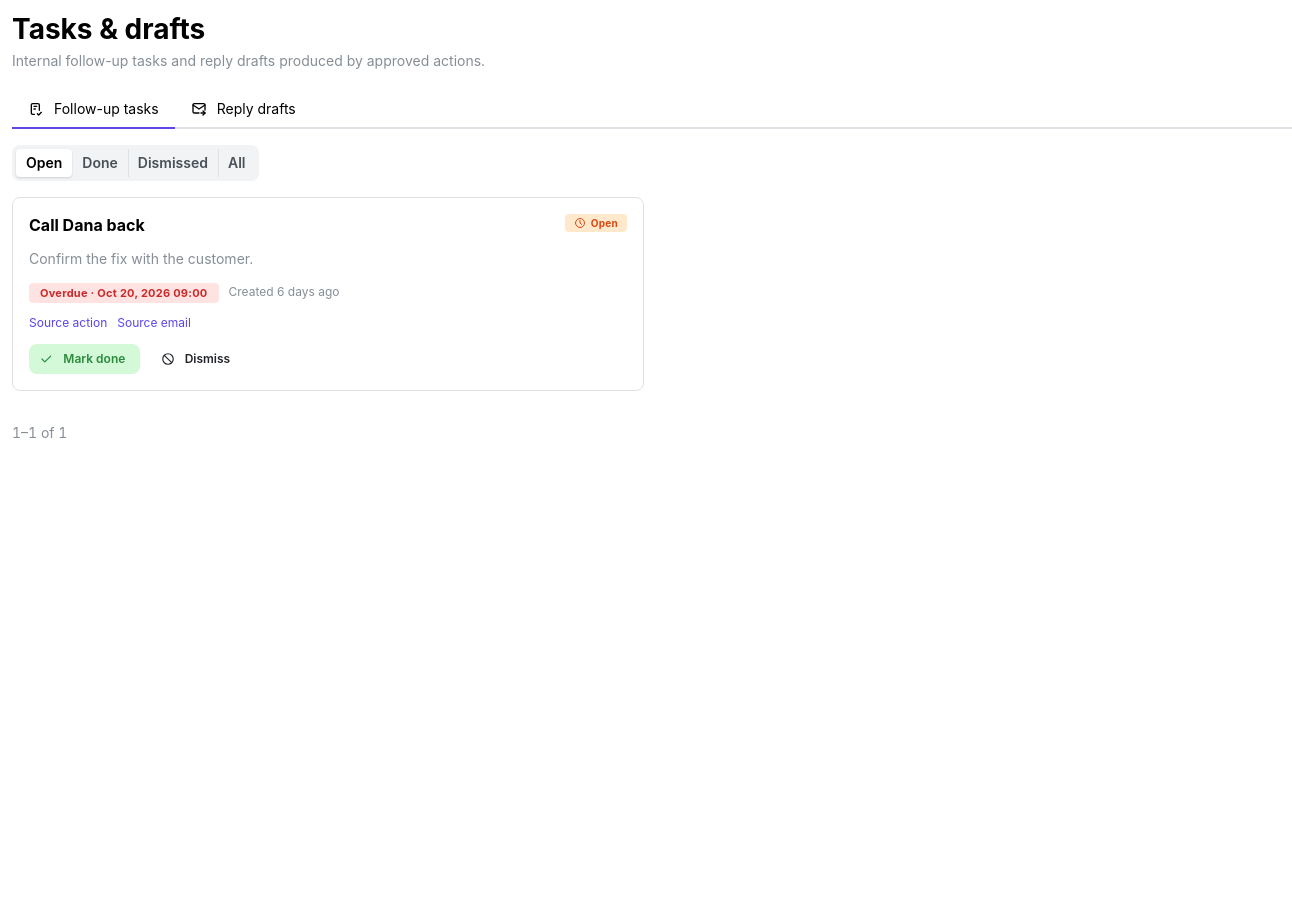
Test: <TasksPage> follow-up tasks › toasts a failed update with its support reference and keeps the card unchanged
Click the button "Mark done" at (85, 359), box 29,344 -> 140,374
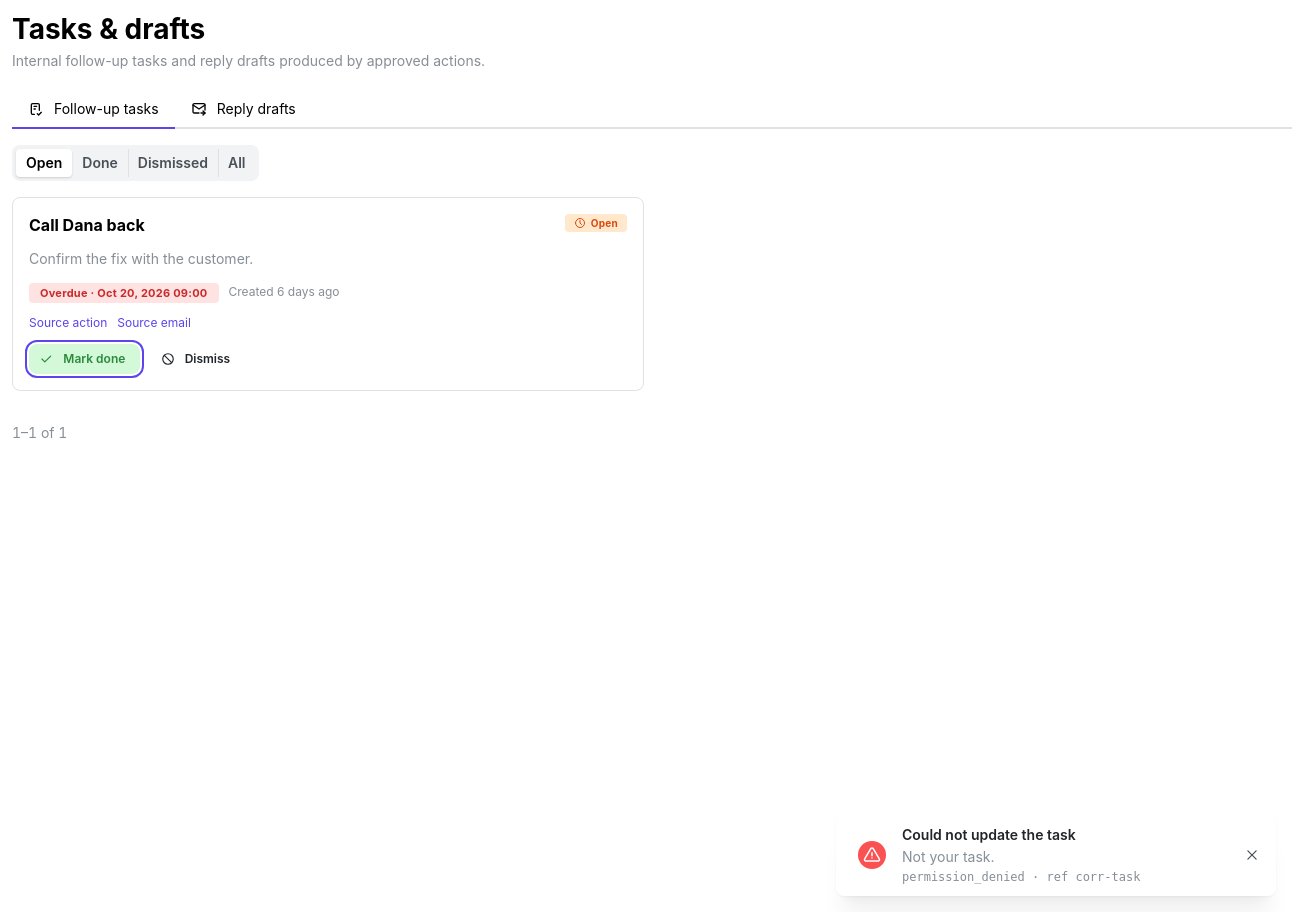
Now the text "Could not update the task" is shown, box 902,826 -> 1076,843
Now the text "Not your task." is shown, box 902,848 -> 995,865
Now the text "permission_denied · ref corr-task" is shown, box 902,870 -> 1140,884
